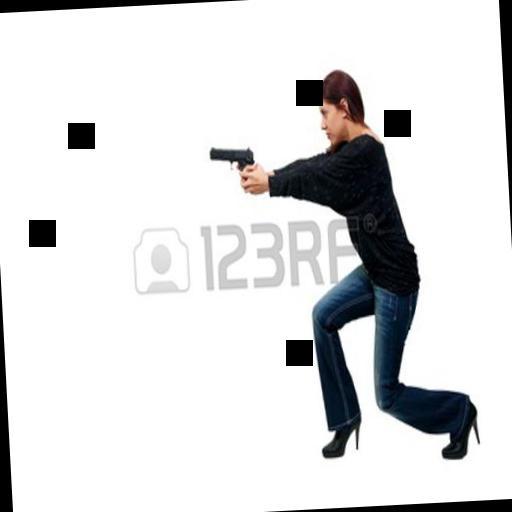Handgun: (204, 144, 259, 198)
